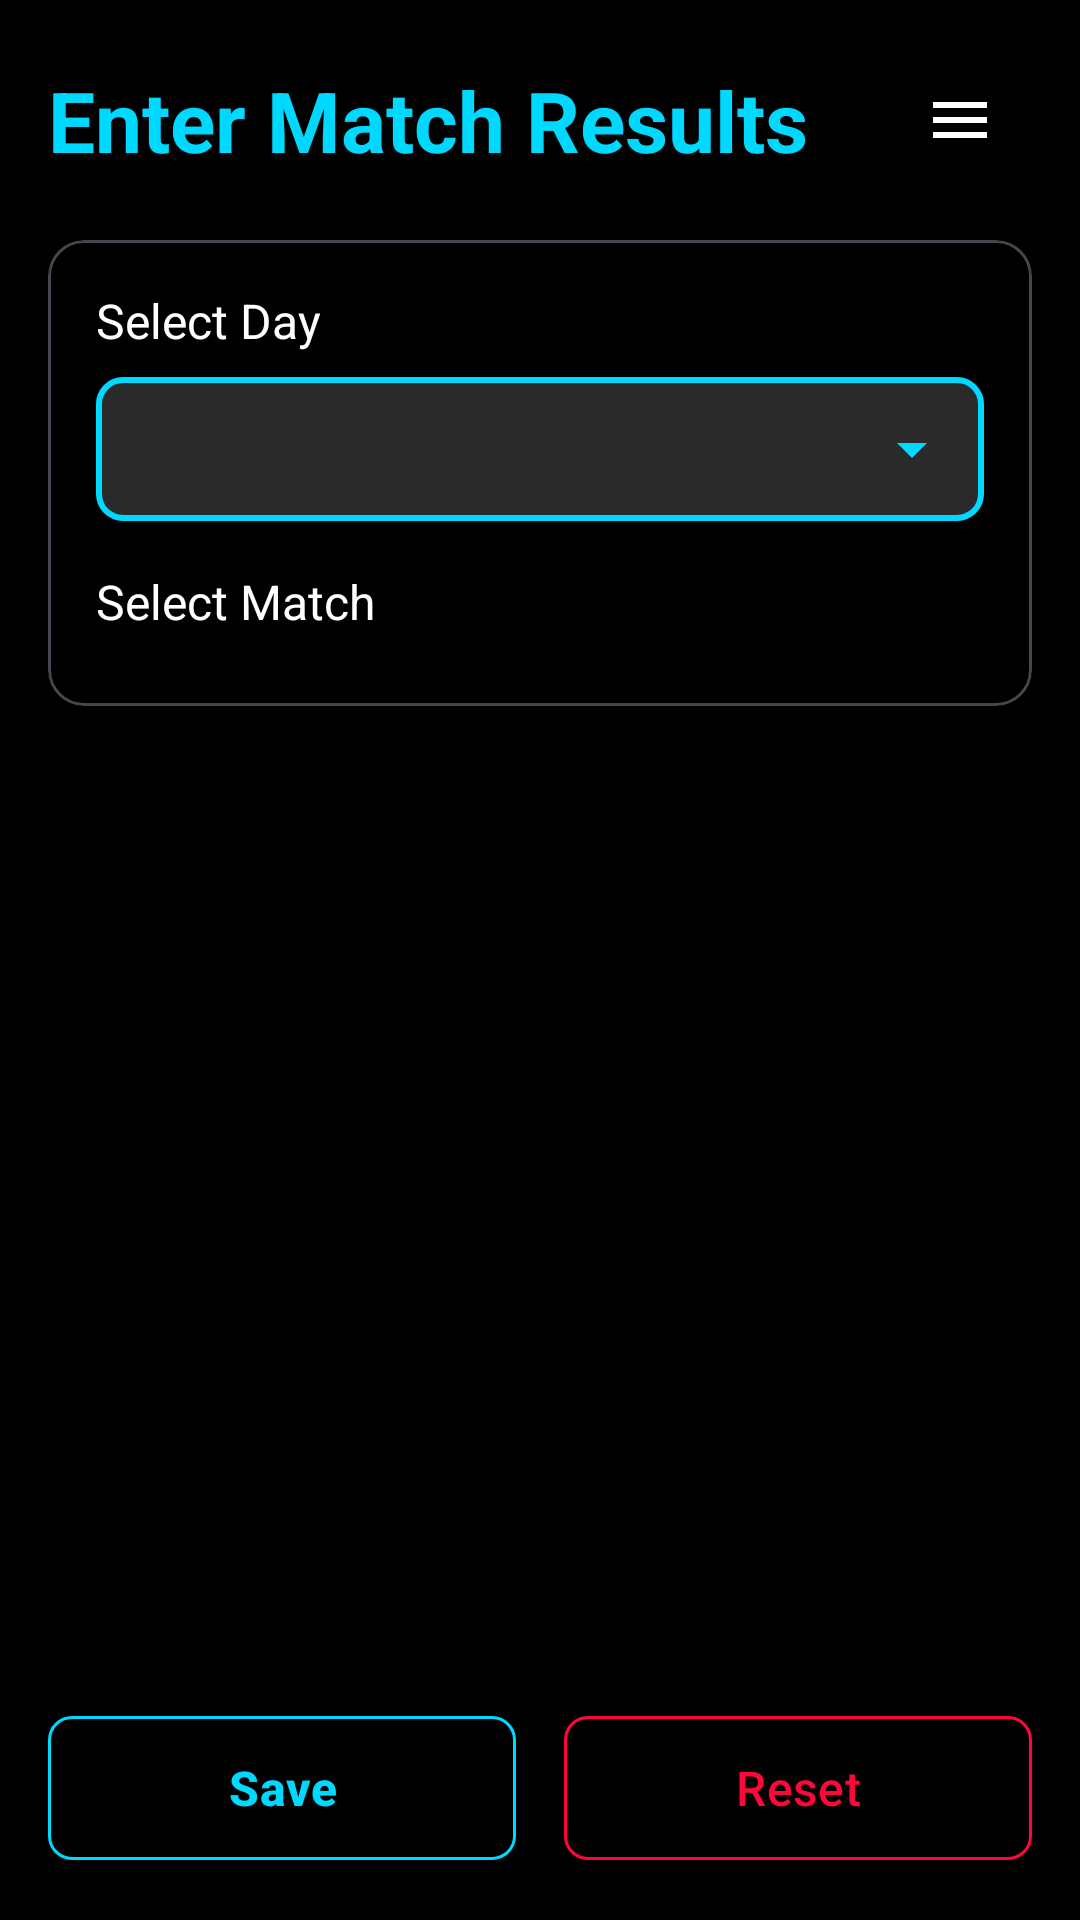

Icon bounding boxes for this 1080w x 1920h phone screenshot, format region(x1, y1, x2, y2):
Menu: region(933, 102, 987, 138)
